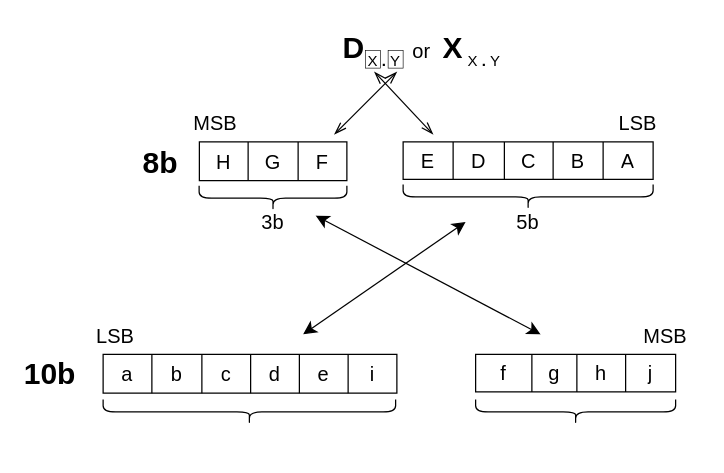
The diagram is 724 pixels wide and 473 high, and some of its shapes have lost their labels. Here are the shapes that lost their labels. From the top down, the centre of each, then its label:
At point 249,411: "6b".
At point 575,411: "4b".
